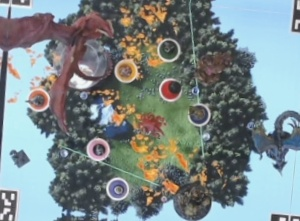blue: (184, 99, 211, 125)
green: (154, 36, 181, 62)
orange: (25, 85, 51, 113)
pink: (81, 134, 112, 162)
red: (154, 74, 184, 103)
violet: (104, 174, 130, 200)
yellow: (110, 56, 139, 83)
